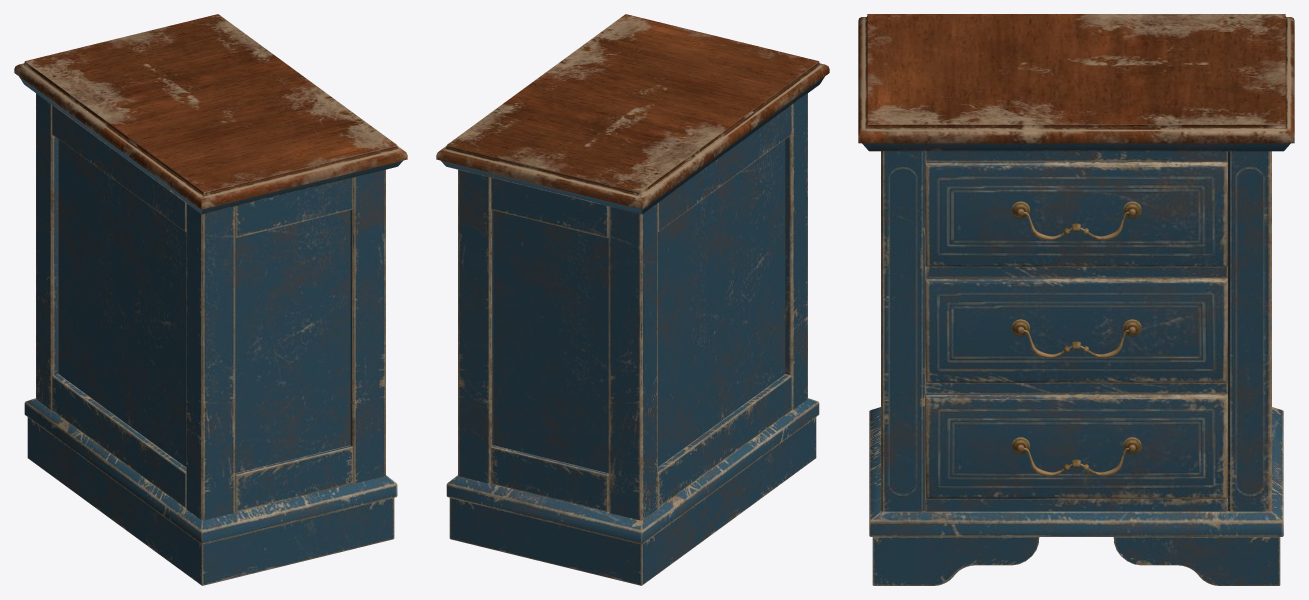
3 views of the same model, side by side, from view 1: azimuth 30°, elevation 25°; view 2: azimuth 150°, elevation 25°; view 3: azimuth 270°, elevation 25° (orthographic). The views are drawn at different scales.
Parts seen in each view (by area): view 1: Base_low, Top_low, WoodPie_low, Bottom02_low, Bottom01_low; view 2: Base_low, Top_low, WoodPie_low, Bottom02_low, Bottom01_low; view 3: Draw_low, Top_low, Base_low, WoodPie_low, Bottom01_low, Bottom02_low, Handle_low, HandlePie_low.
Part boxes in pixels (bbox=[...]): Base_low: bbox=[36, 93, 385, 520]; Top_low: bbox=[14, 14, 407, 214]; WoodPie_low: bbox=[52, 105, 352, 512]; Bottom02_low: bbox=[27, 417, 394, 585]; Bottom01_low: bbox=[24, 398, 397, 544]; Base_low: bbox=[458, 93, 807, 520]; Top_low: bbox=[436, 14, 829, 214]; WoodPie_low: bbox=[491, 105, 791, 512]; Bottom02_low: bbox=[449, 417, 816, 585]; Bottom01_low: bbox=[446, 398, 819, 544]; Draw_low: bbox=[925, 162, 1227, 498]; Top_low: bbox=[858, 14, 1294, 151]; Base_low: bbox=[881, 151, 1271, 511]; WoodPie_low: bbox=[925, 151, 1227, 511]; Bottom01_low: bbox=[869, 407, 1283, 536]; Bottom02_low: bbox=[872, 537, 1280, 585]; Handle_low: bbox=[1023, 211, 1129, 476]; HandlePie_low: bbox=[1011, 201, 1141, 454].
Bounding box in the file's own units: 0.7348 × 1.33 × 1.14.
1 material, 1 textured.
